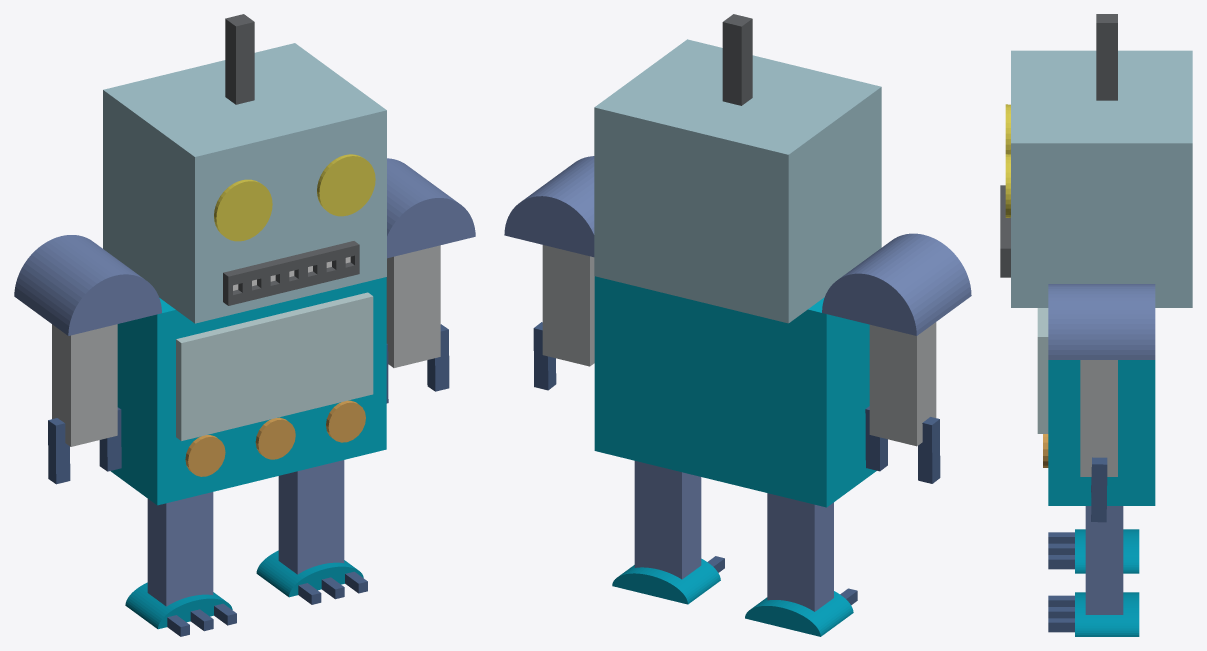
The model's file is Robot.glb.
3 views of the same model, side by side, from view 1: azimuth 30°, elevation 25°; view 2: azimuth 150°, elevation 25°; view 3: azimuth 270°, elevation 25° (orthographic). The views are drawn at different scales.
Parts seen in each view (by area): view 1: Mesh_Mesh_head_geo.001_lambert2SG.001; view 2: Mesh_Mesh_head_geo.001_lambert2SG.001; view 3: Mesh_Mesh_head_geo.001_lambert2SG.001.
Boxes of the visible parts, box(x1,y1,x2,y2) form: Mesh_Mesh_head_geo.001_lambert2SG.001: box(14, 14, 475, 636); Mesh_Mesh_head_geo.001_lambert2SG.001: box(504, 14, 971, 636); Mesh_Mesh_head_geo.001_lambert2SG.001: box(1000, 14, 1192, 636).
Size of the model in its own units: 87 by 117 by 36.
